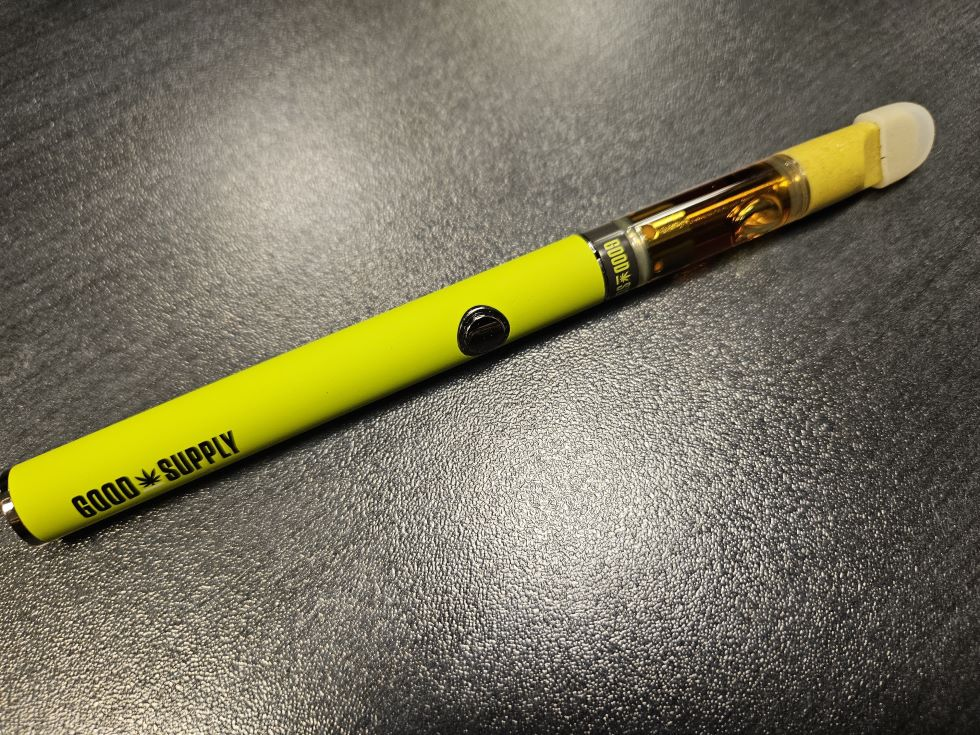weed_pen: (15, 104, 897, 524)
